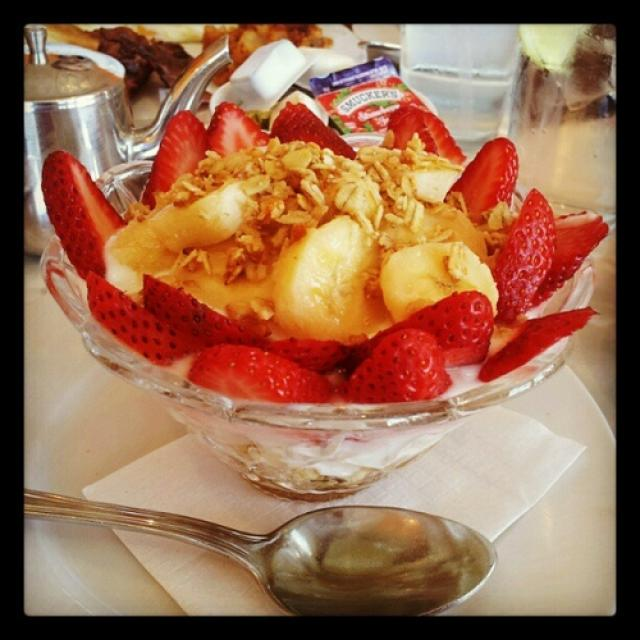蛋糕甜品: (29, 32, 608, 512)
